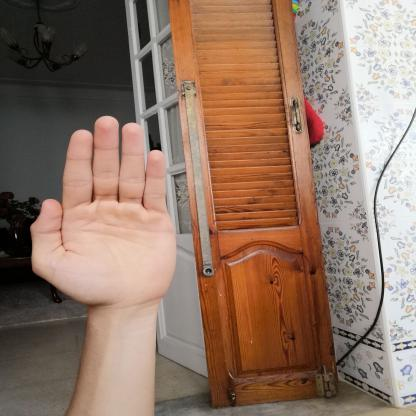SEEN: (20, 107, 184, 314)
